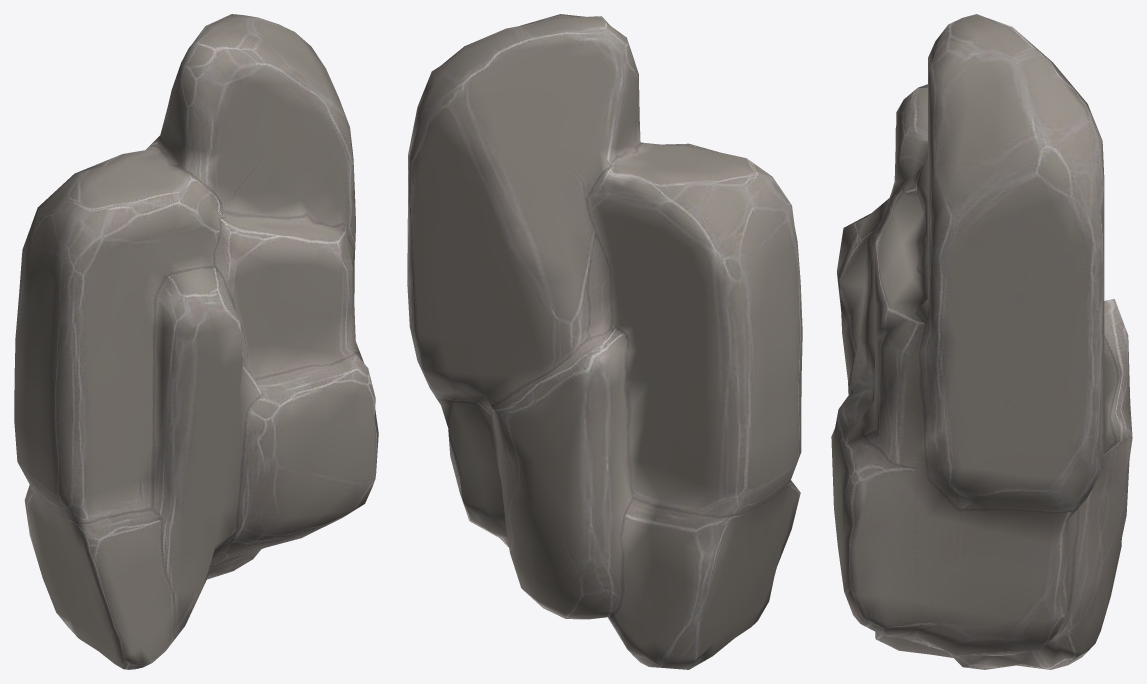
File: SM_Rock_04.glb
3 renders of one model, left to right at view 1: azimuth 30°, elevation 25°; view 2: azimuth 150°, elevation 25°; view 3: azimuth 270°, elevation 25°, orthographic. The views are drawn at different scales.
Visible parts, largest first — view 1: SM_Rock_04; view 2: SM_Rock_04; view 3: SM_Rock_04.
Part boxes in pixels (x1,y1,x2,y2): SM_Rock_04: [14, 14, 378, 669]; SM_Rock_04: [407, 14, 802, 669]; SM_Rock_04: [831, 14, 1132, 669].
Size of the model in its own units: 1.87 by 3.34 by 1.32.
1 material, 1 textured.
